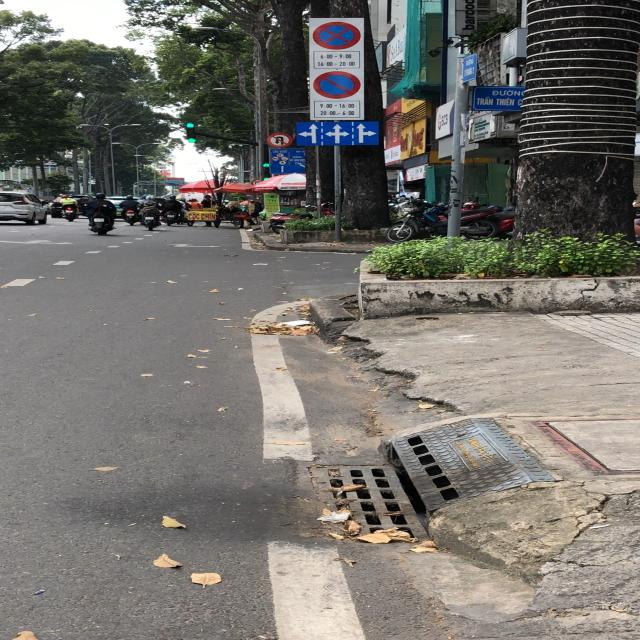Bien bao cam do xe: (312, 70, 364, 100)
Bien bao cam dung xe va do xe: (312, 19, 365, 50)
Bien bao cam quay dau xe: (266, 132, 297, 149)
